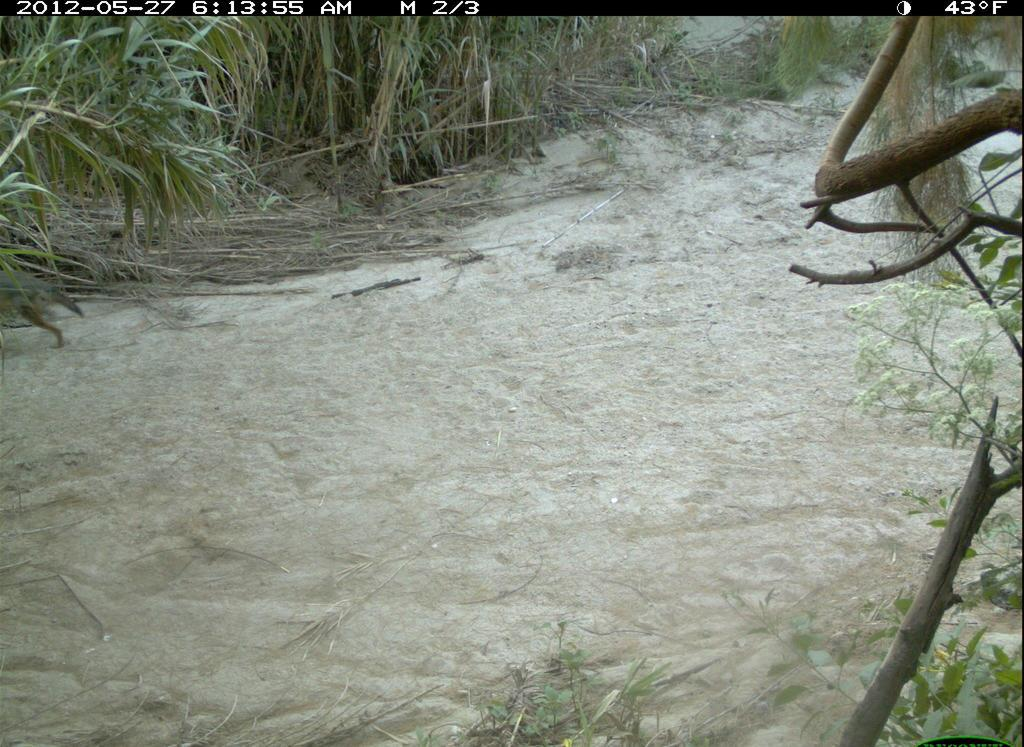coyote: (2, 273, 93, 353)
